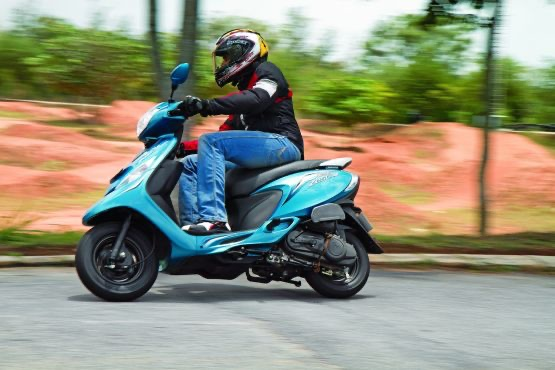helmet: (204, 26, 272, 89)
